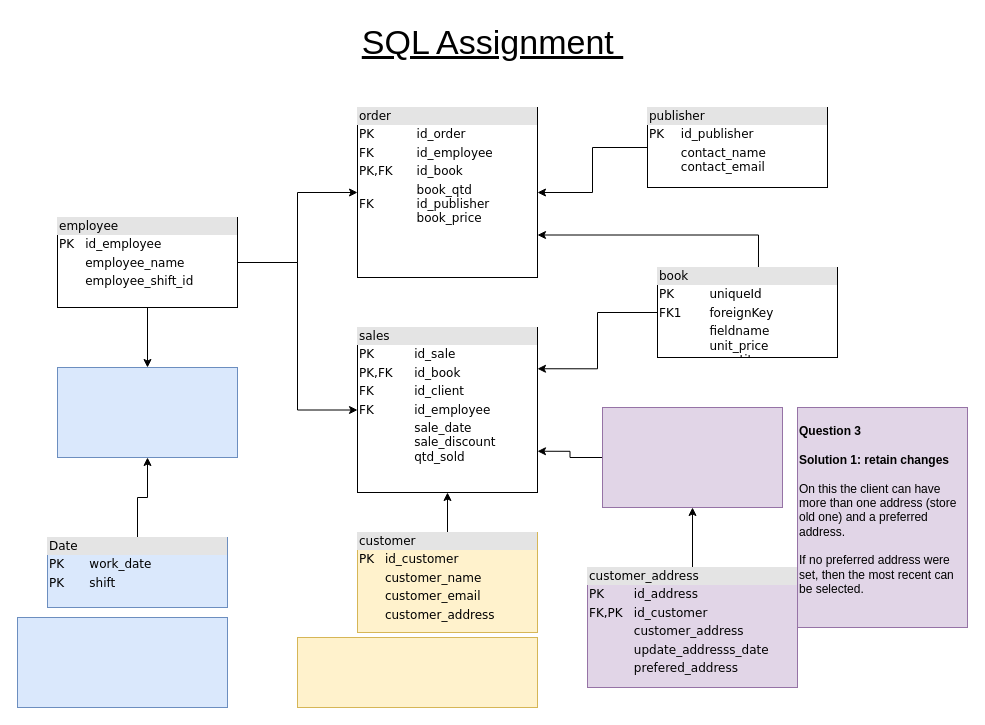
The diagram is 985 pixels wide and 725 high, and some of its shapes have lost their labels. The shapes that lost their labels are listed below. From the top down, each one's centre as x and y in pixels, then its label:
the point at 147,412: employee_date_work PK id_employee PK work_date PK shift
the point at 692,457: customer PK id_customer customer_name customer_email FK id_customer_address
the point at 122,662: Question 2 Shift: 1 - morning 2 - afternoon
the point at 417,672: Question 3 Solution 2: overwrite address
